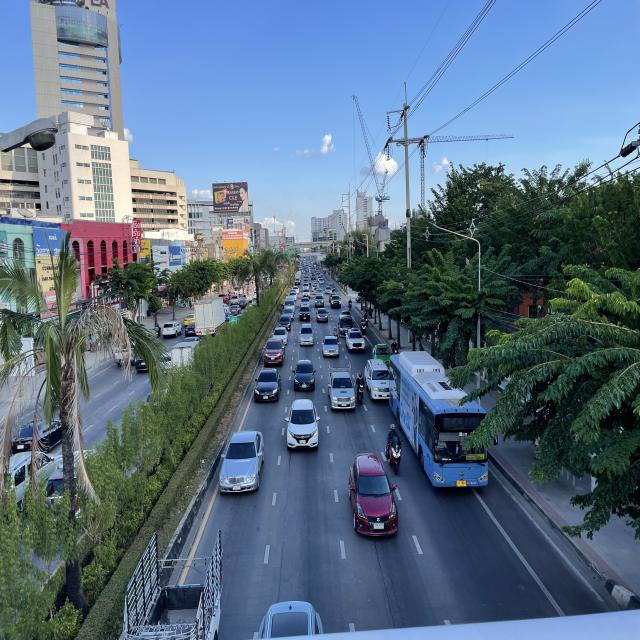bike: (384, 421, 404, 476), (356, 372, 365, 406), (360, 316, 366, 336), (333, 327, 339, 342), (364, 311, 369, 327), (348, 298, 352, 310)
bus: (388, 349, 489, 488)
car: (346, 452, 399, 538), (249, 598, 327, 640), (219, 430, 265, 496), (285, 398, 320, 454), (253, 367, 282, 403), (291, 359, 317, 392), (263, 338, 285, 367), (345, 328, 366, 353), (322, 335, 341, 358), (337, 314, 354, 338), (298, 322, 314, 347), (272, 327, 288, 345)
truck: (120, 526, 224, 640), (327, 358, 356, 412), (364, 358, 393, 401)
